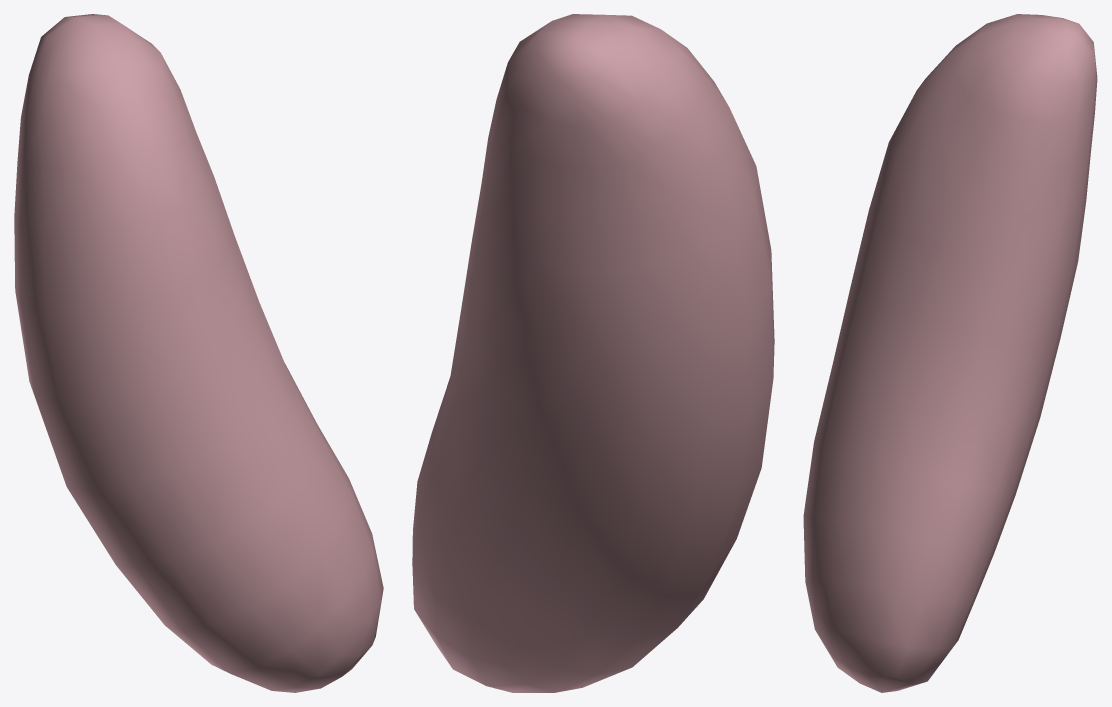
File: 3DPX-020980.glb
3 renders of one model, left to right at view 1: azimuth 30°, elevation 25°; view 2: azimuth 150°, elevation 25°; view 3: azimuth 270°, elevation 25°, orthographic. The views are drawn at different scales.
Visible parts, largest first — view 1: VH_F_right_ovary; view 2: VH_F_right_ovary; view 3: VH_F_right_ovary.
Part boxes in pixels (x1,y1,x2,y2): VH_F_right_ovary: (14,14,383,692); VH_F_right_ovary: (412,14,774,692); VH_F_right_ovary: (803,14,1097,692).
Bounding box in the file's own units: 0.1231 × 0.2399 × 0.1063.
